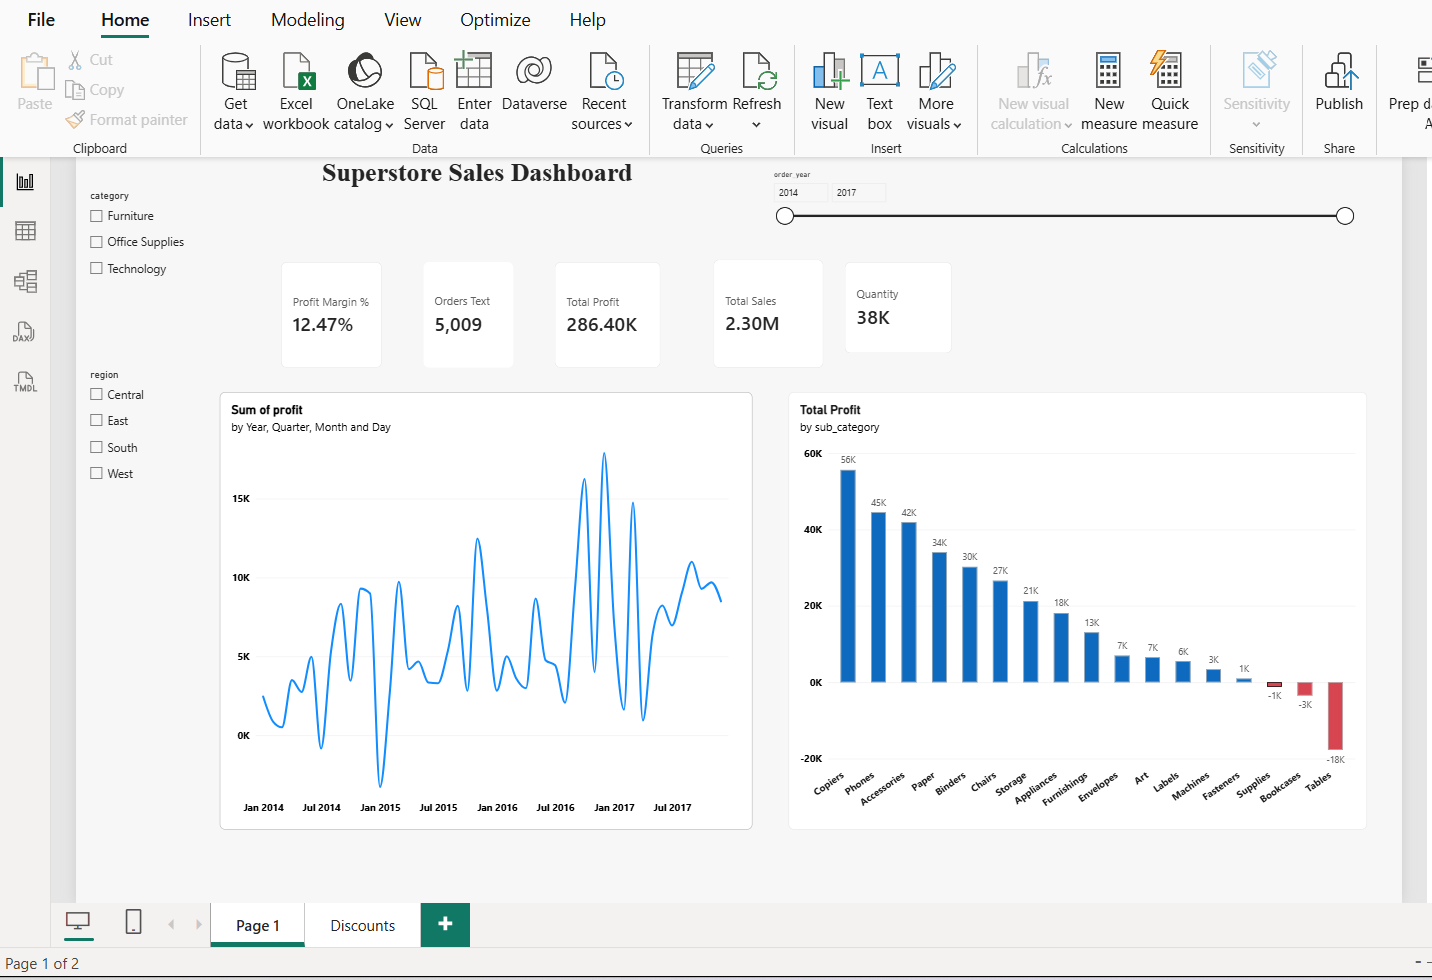

What the dashboard file says about the page in this screenshot:
{"tool":"powerbi","page":{"name":"Page 1","canvas":[1920,1080],"ordinal":0},"visuals":[{"type":"cardVisual","fields":{"Data":["superstore_clean.Profit Margin %"]},"box":[296.8,152,146.6,153.8],"z":0},{"type":"cardVisual","fields":{"Data":["superstore_clean.Total Profit"]},"box":[693.1,152,153.8,153.8],"z":1},{"type":"cardVisual","fields":{"Data":["Sum(superstore_clean.sales)"]},"box":[922.9,148.4,159.3,157.4],"z":2},{"type":"cardVisual","fields":{"Data":["Sum(superstore_clean.quantity)"]},"box":[1112.9,152,155.6,132.1],"z":3},{"type":"cardVisual","fields":{"Data":["superstore_clean.Orders Text"]},"box":[503.1,152,130.3,153.8],"z":4},{"type":"lineChart","fields":{"Category":["superstore_clean.order_month.Variation.Date Hierarchy.Year","superstore_clean.order_month.Variation.Date Hierarchy.Quarter","superstore_clean.order_month.Variation.Date Hierarchy.Month","superstore_clean.order_month.Variation.Date Hierarchy.Day"],"Y":["Sum(superstore_clean.profit)"]},"box":[208.1,340.2,770.9,633.4],"z":5},{"type":"slicer","fields":{"Values":["superstore_clean.order_year"]},"box":[1002.6,18.1,850.5,97.7],"z":9},{"type":"slicer","fields":{"Values":["superstore_clean.region"]},"box":[13.2,305.7,190.6,234],"z":10},{"type":"slicer","fields":{"Values":["superstore_clean.category"]},"box":[13.2,47.2,196.2,211.3],"z":11},{"type":"columnChart","fields":{"Category":["superstore_clean.sub_category"],"Y":["superstore_clean.Total Profit"]},"box":[1031.5,340.2,837.9,633.4],"z":12},{"type":"textbox","box":[202.7,0,756.4,92.3],"z":13}]}

Visuals, with their boxes on the page's 1920x1080 design canvas (x1, y1, x2, y2). These are canvas units, not pixel positions in the 1432x980 screenshot, which may show the page scaled, cropped or inside an application window:
cardVisual - superstore_clean.Profit Margin %: select_region(297, 152, 443, 306)
cardVisual - superstore_clean.Total Profit: select_region(693, 152, 847, 306)
cardVisual - Sum(superstore_clean.sales): select_region(923, 148, 1082, 306)
cardVisual - Sum(superstore_clean.quantity): select_region(1113, 152, 1268, 284)
cardVisual - superstore_clean.Orders Text: select_region(503, 152, 633, 306)
lineChart - superstore_clean.order_month.Variation.Date Hierarchy.Year x superstore_clean.order_month.Variation.Date Hierarchy.Quarter: select_region(208, 340, 979, 974)
slicer - superstore_clean.order_year: select_region(1003, 18, 1853, 116)
slicer - superstore_clean.region: select_region(13, 306, 204, 540)
slicer - superstore_clean.category: select_region(13, 47, 209, 258)
columnChart - superstore_clean.sub_category x superstore_clean.Total Profit: select_region(1032, 340, 1869, 974)
textbox: select_region(203, 0, 959, 92)
